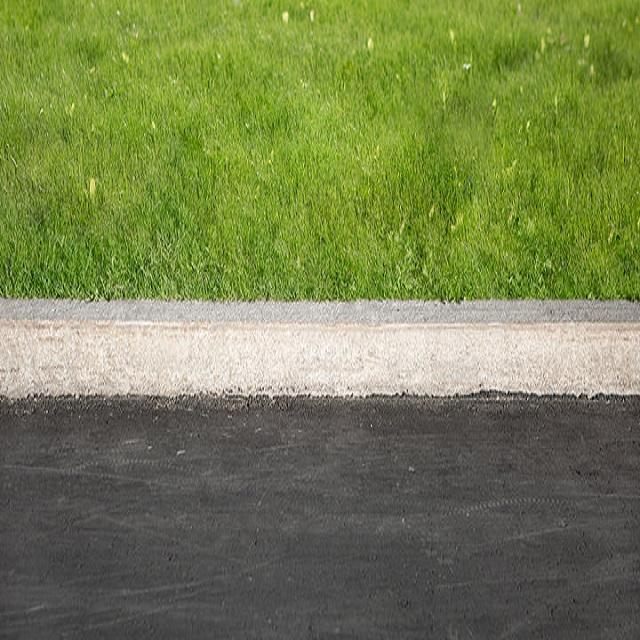bump: (0, 275, 640, 435)
